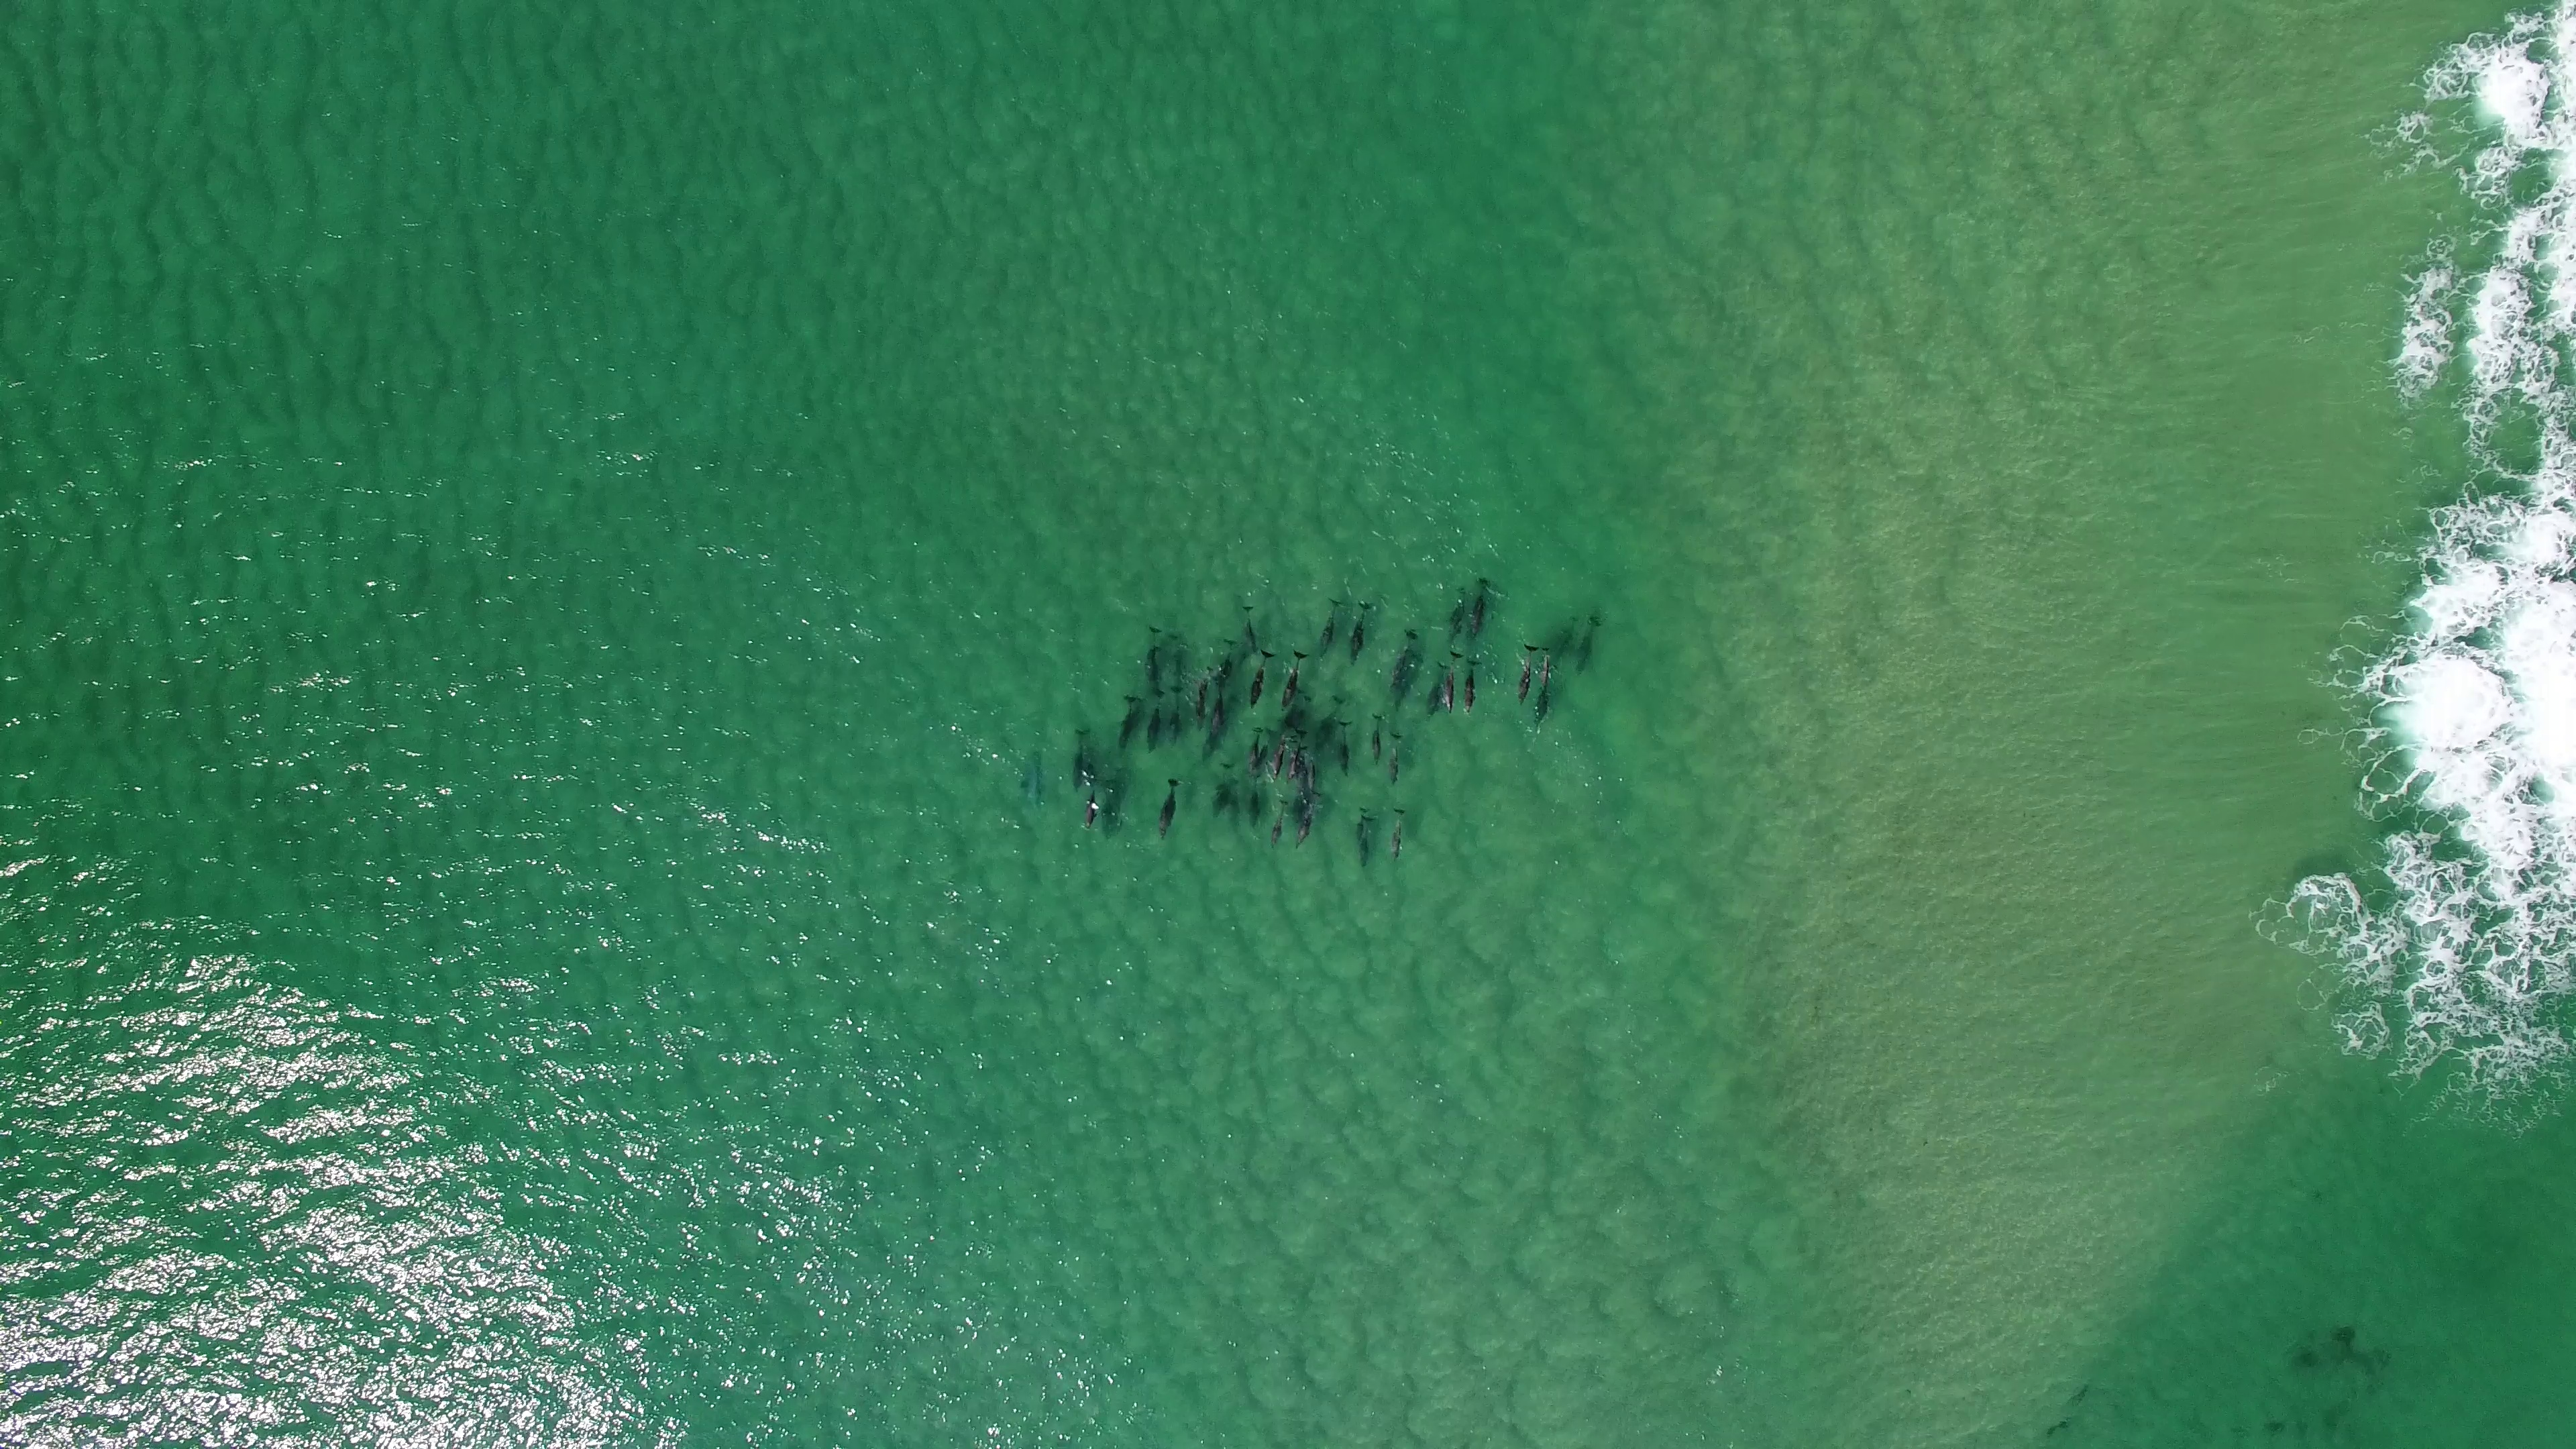dolphin: (1315, 594, 1343, 667), (1277, 648, 1306, 715), (1532, 649, 1555, 731), (1576, 612, 1605, 678), (1247, 648, 1276, 711), (1391, 626, 1417, 694), (1350, 600, 1376, 667), (1421, 660, 1449, 722), (1155, 777, 1184, 839), (1203, 683, 1226, 755), (1444, 584, 1468, 651), (1189, 667, 1214, 732), (1470, 577, 1493, 644), (1145, 690, 1168, 757), (1297, 787, 1322, 849), (1069, 725, 1092, 791), (1210, 761, 1235, 817), (1215, 637, 1240, 690), (1116, 695, 1139, 752), (1516, 642, 1537, 702), (1288, 727, 1311, 782), (1145, 619, 1162, 690), (1385, 729, 1405, 791), (1269, 796, 1292, 847), (1463, 656, 1483, 717), (1166, 686, 1184, 752), (1242, 600, 1261, 658), (1083, 775, 1102, 833), (1445, 649, 1463, 713), (1338, 718, 1355, 778), (1293, 747, 1315, 796), (1368, 713, 1385, 771), (1247, 771, 1265, 830), (1359, 814, 1376, 869), (1246, 727, 1265, 775), (1391, 805, 1405, 867), (1352, 805, 1369, 847)
